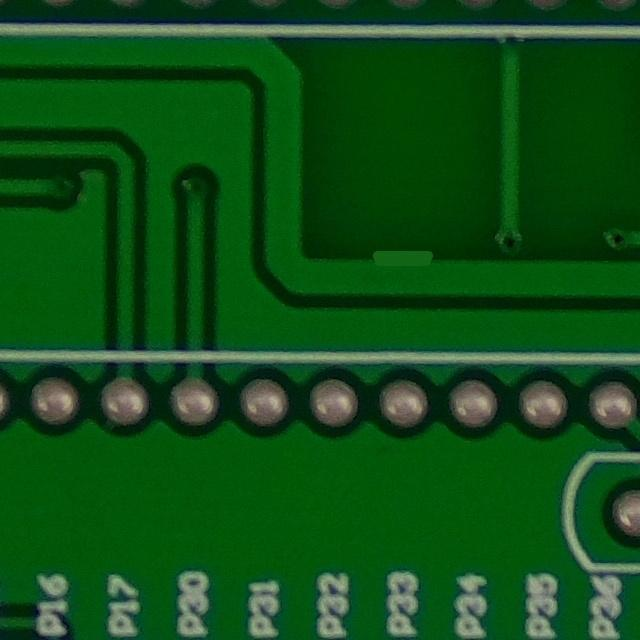spur: (357, 233, 445, 282)
